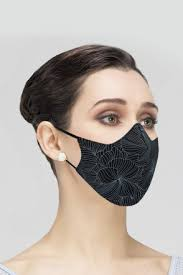with-mask: (22, 35, 166, 213)
